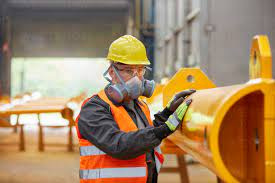Helmet: (101, 35, 153, 66)
Jacket: (72, 95, 156, 183)
Mask: (112, 78, 152, 101)
